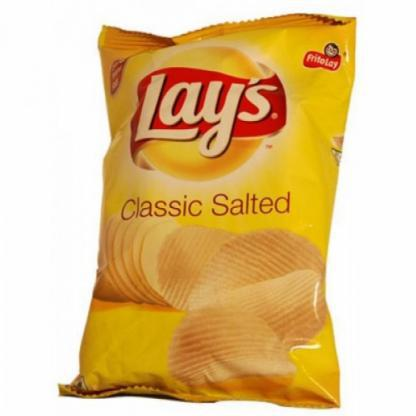classicsalted: (58, 13, 357, 410)
